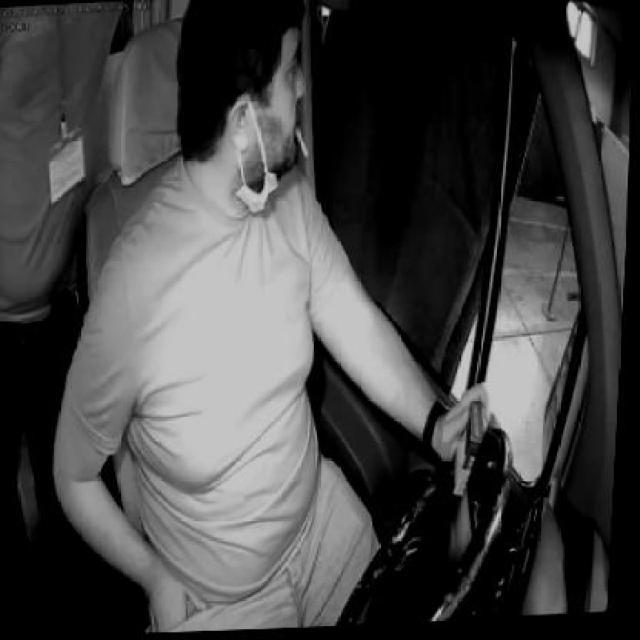Inattentive: (170, 2, 326, 194)
